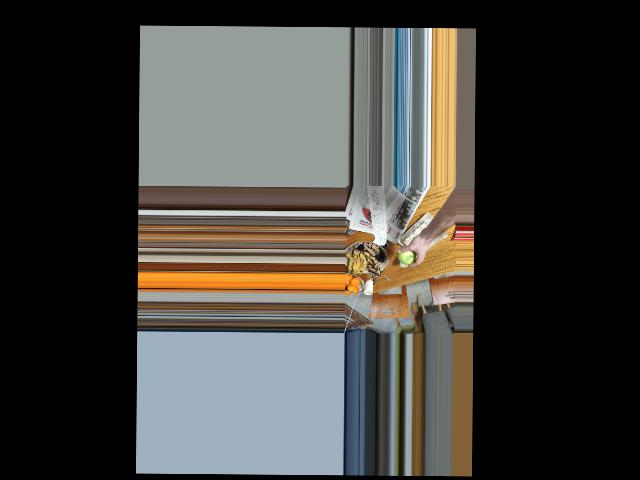apple: (398, 248, 420, 265)
